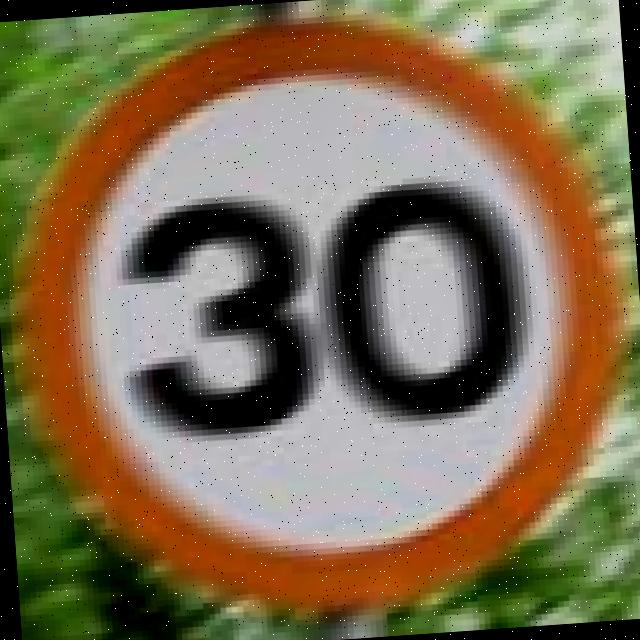Ograniczenie predkosci do 30: (13, 0, 640, 630)
